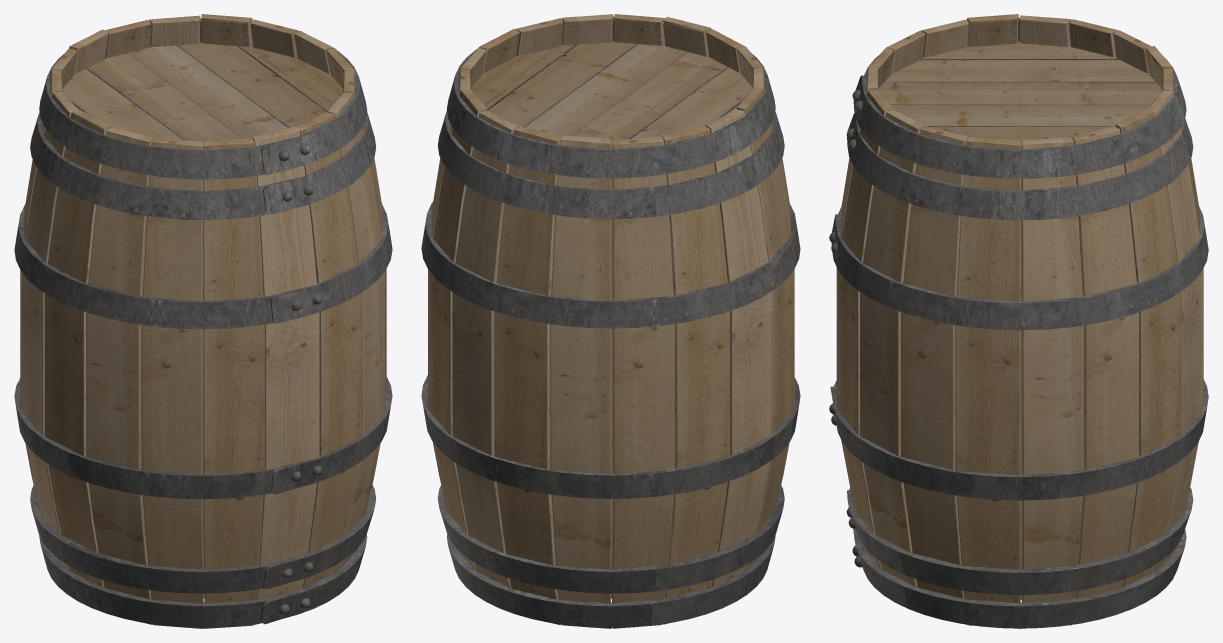
File: ton_3ds_barrel.glb
3 renders of one model, left to right at view 1: azimuth 30°, elevation 25°; view 2: azimuth 150°, elevation 25°; view 3: azimuth 270°, elevation 25°, orthographic.
Parts seen in each view (by area): view 1: obj0; view 2: obj0; view 3: obj0.
Part boxes in pixels (x1,y1,x2,y2): obj0: (14, 14, 392, 628); obj0: (421, 14, 800, 628); obj0: (829, 14, 1208, 628).
Bounding box in the file's own units: 0.92 × 1.3 × 0.9195.
Materials: 3 (3 with a texture image).
